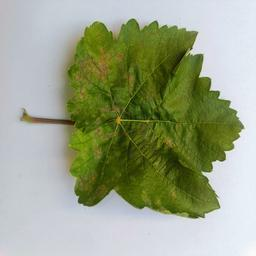Powdery-Mildew: (76, 45, 126, 84), (124, 71, 142, 95), (140, 186, 157, 203), (164, 133, 180, 150), (81, 173, 97, 190), (162, 186, 178, 203)
